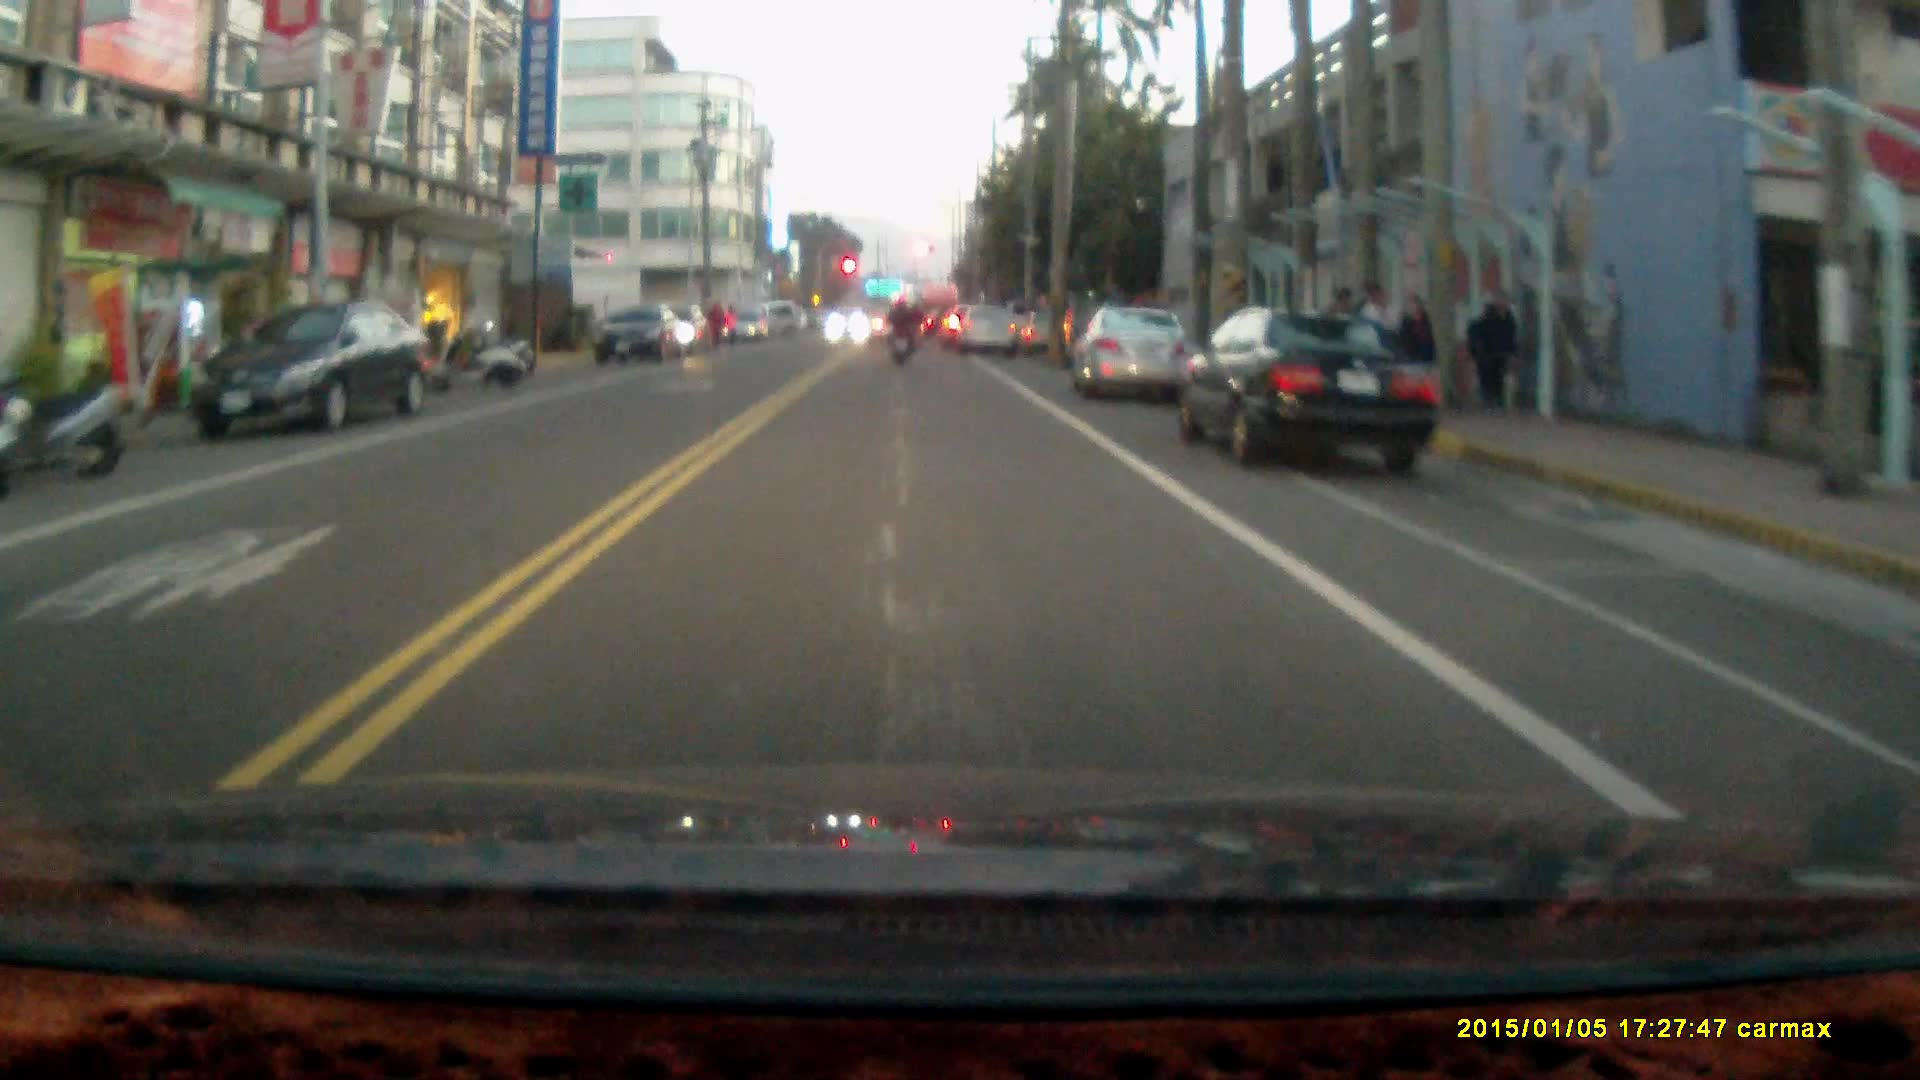pedestrian: (1463, 285, 1518, 414), (1389, 292, 1439, 400), (1355, 284, 1399, 399)
rider: (886, 295, 913, 364)
vehicle: (1172, 293, 1445, 469), (184, 291, 439, 429), (1073, 295, 1200, 397), (595, 305, 697, 364), (965, 301, 1023, 356)
